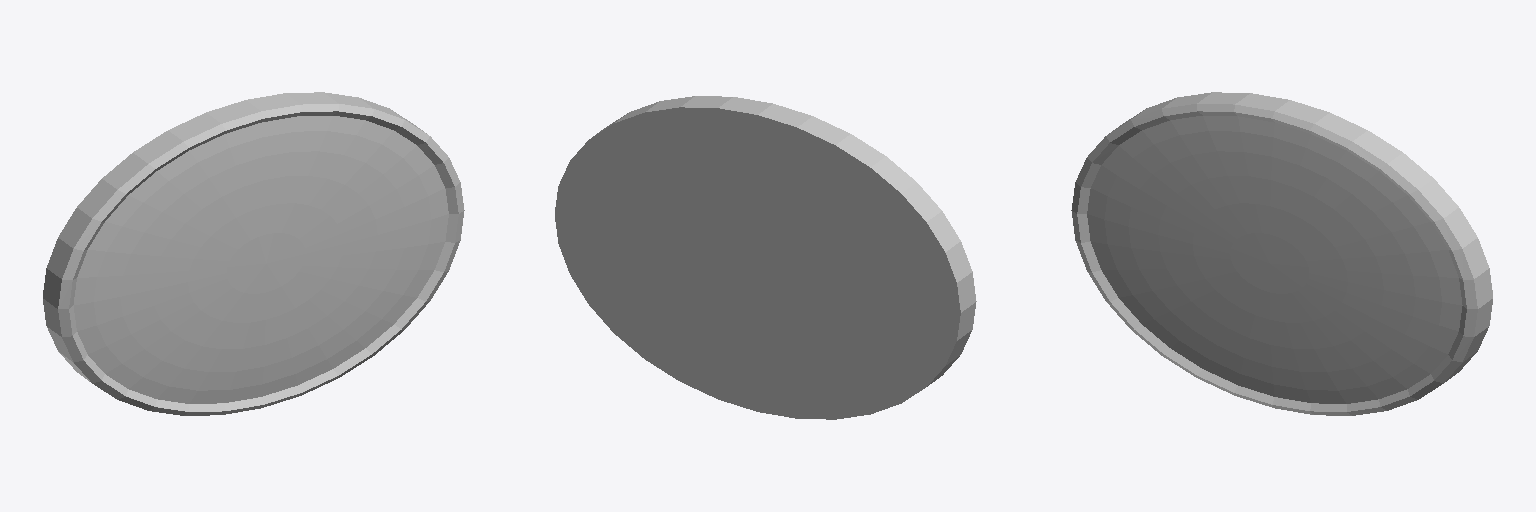
Rendered from combadge2.obj.
The picture shows the model from 3 angles: view 1: azimuth 30°, elevation 25°; view 2: azimuth 150°, elevation 25°; view 3: azimuth 330°, elevation 25°; orthographic projection.
Parts seen in each view (by area): view 1: Shield; view 2: Shield; view 3: Shield.
Boxes of the visible parts, box(x1,y1,x2,y2) form: Shield: box(43, 92, 464, 415); Shield: box(555, 96, 976, 419); Shield: box(1071, 92, 1492, 415).
Bounding box in the file's own units: 1.94 × 1.36 × 0.1709.